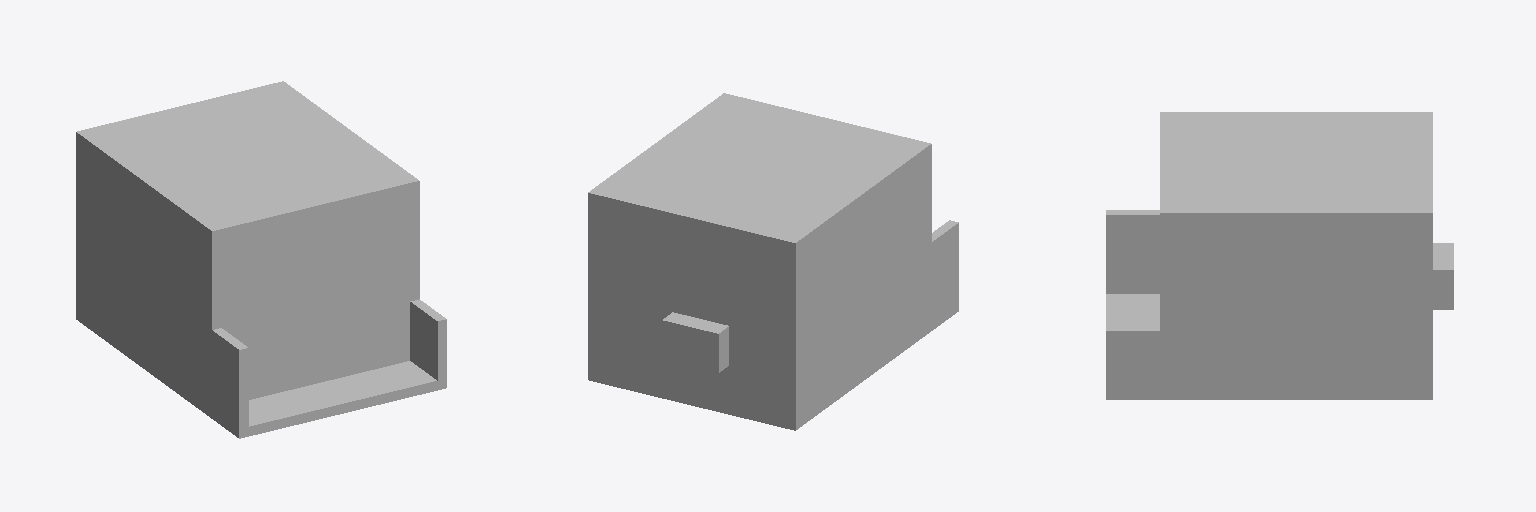
Rendered from body.obj.
3 renders of one model, left to right at view 1: azimuth 30°, elevation 25°; view 2: azimuth 150°, elevation 25°; view 3: azimuth 270°, elevation 25°, orthographic.
Bounding box in the file's own units: 22 × 19 × 32.